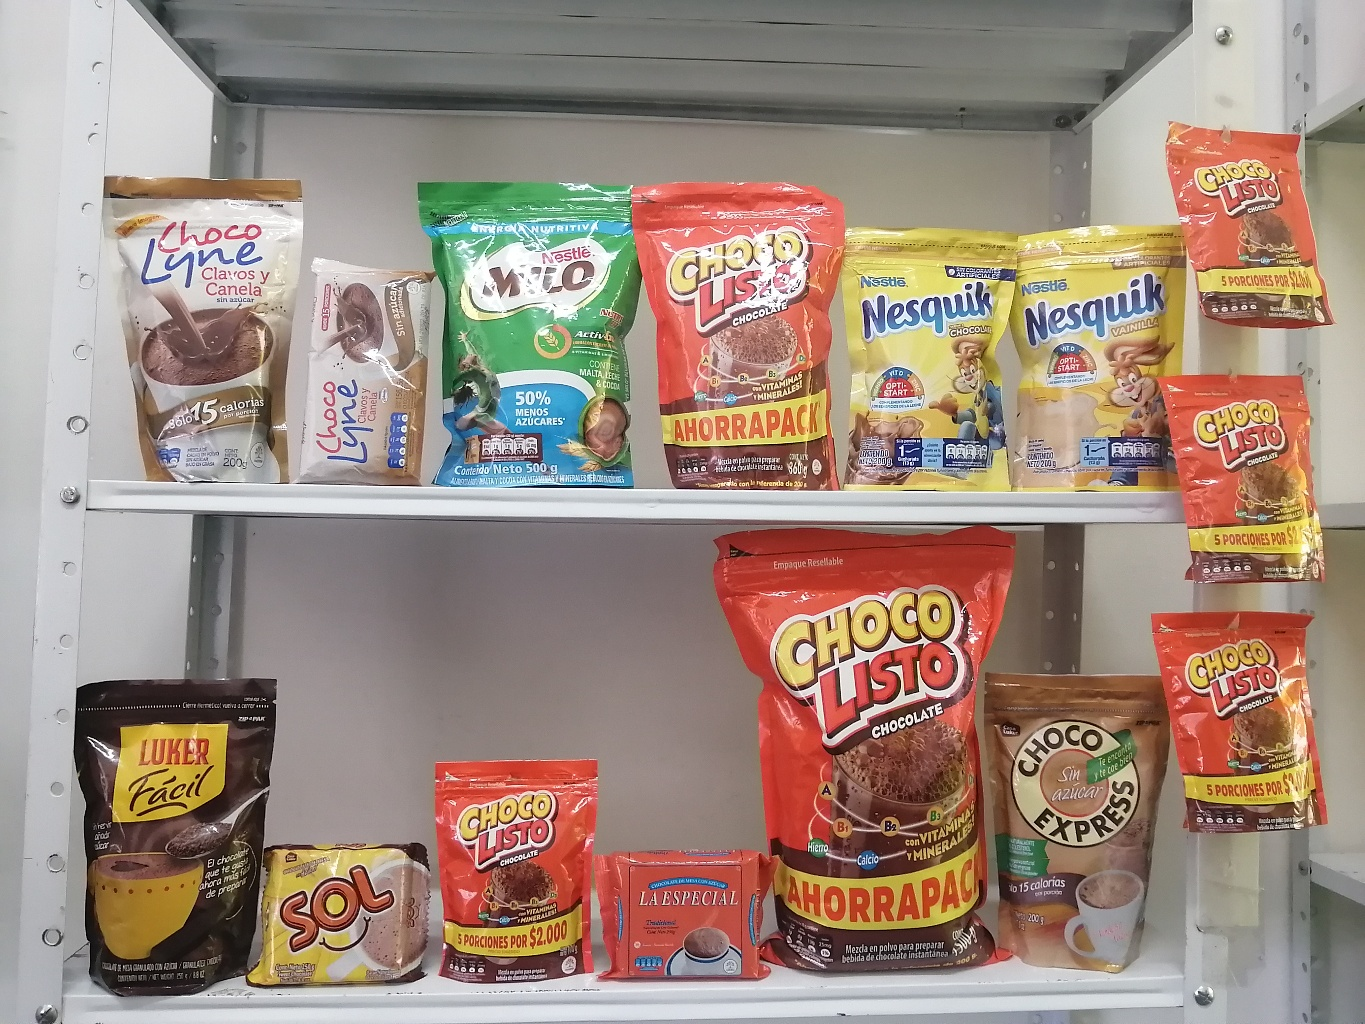COL0170103DYP1,500: (691, 511, 1021, 985)
COL0170103DYP36000: (625, 151, 865, 493)
COL0170205DYP50000: (403, 163, 657, 493)
COL0170303DYP20000: (821, 209, 1027, 497)
COL0170306DYP20000: (993, 209, 1203, 503)
